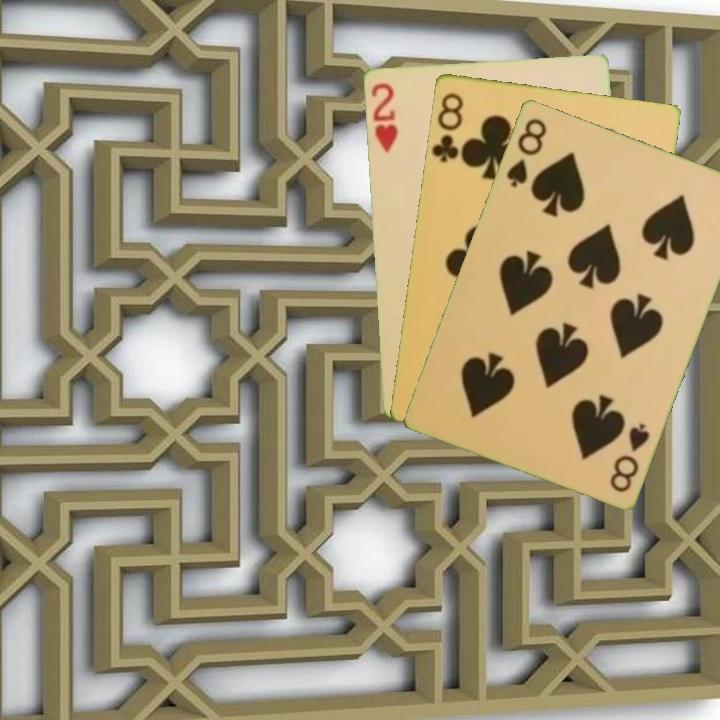2h: (367, 79, 400, 156)
8c: (428, 89, 466, 165)
8s: (502, 114, 550, 190), (606, 418, 653, 495)
